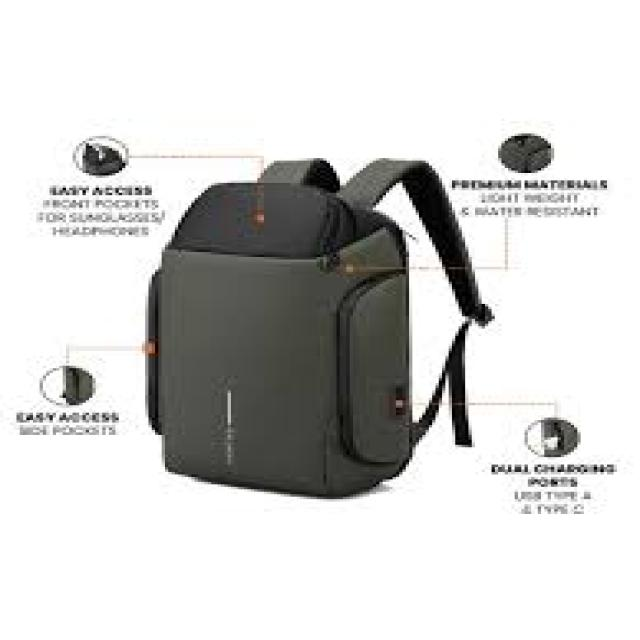backpack: (143, 157, 492, 498)
